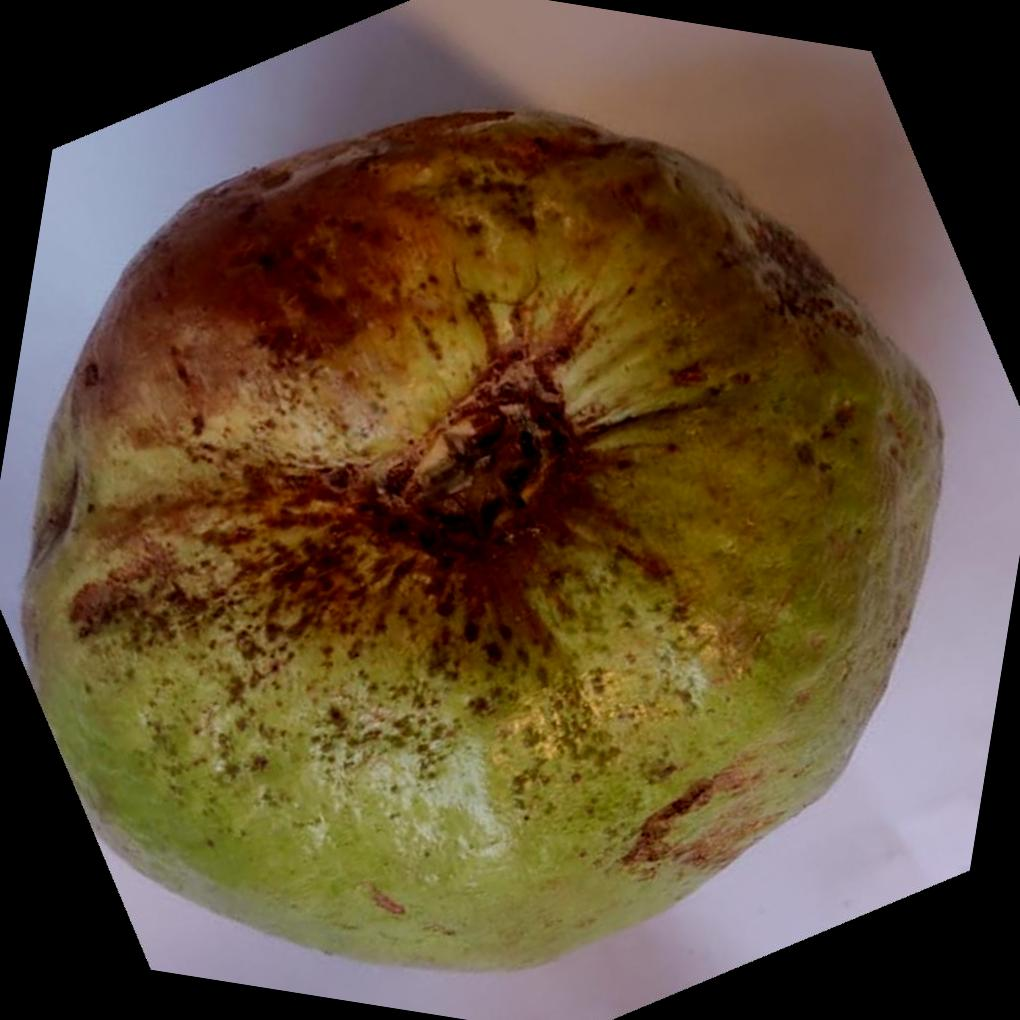FreshOrange: (18, 106, 941, 974)
